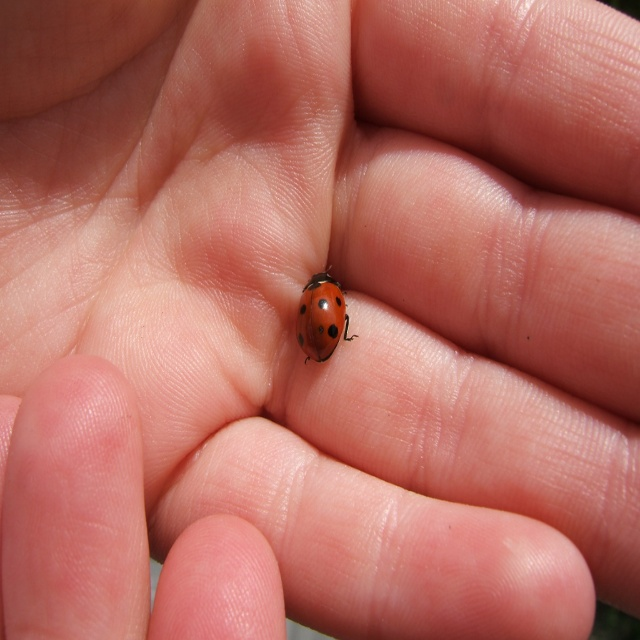Ladybug: (294, 265, 357, 365)
